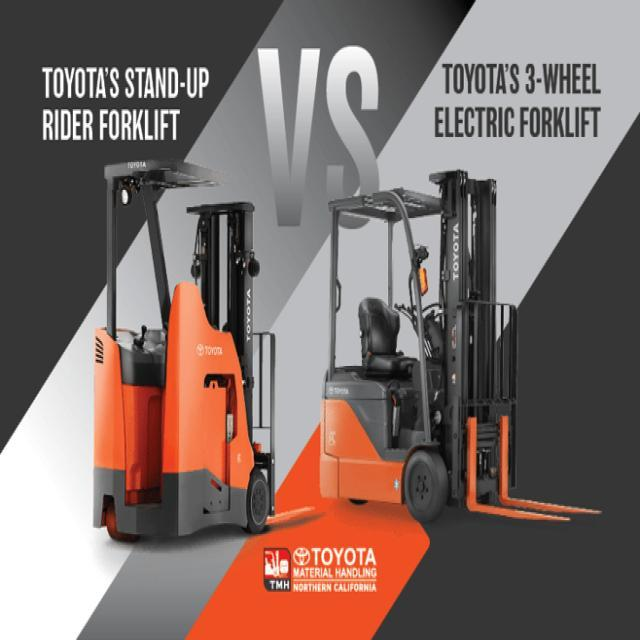forklift: (312, 166, 534, 527)
